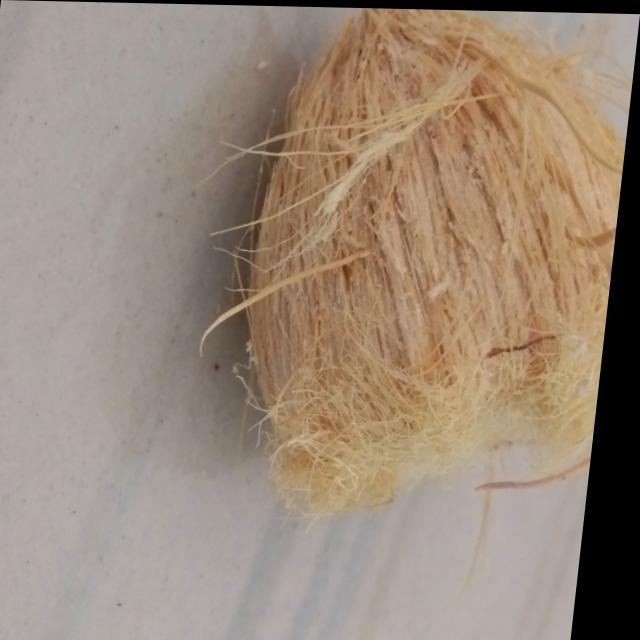phatora: (232, 6, 640, 541)
